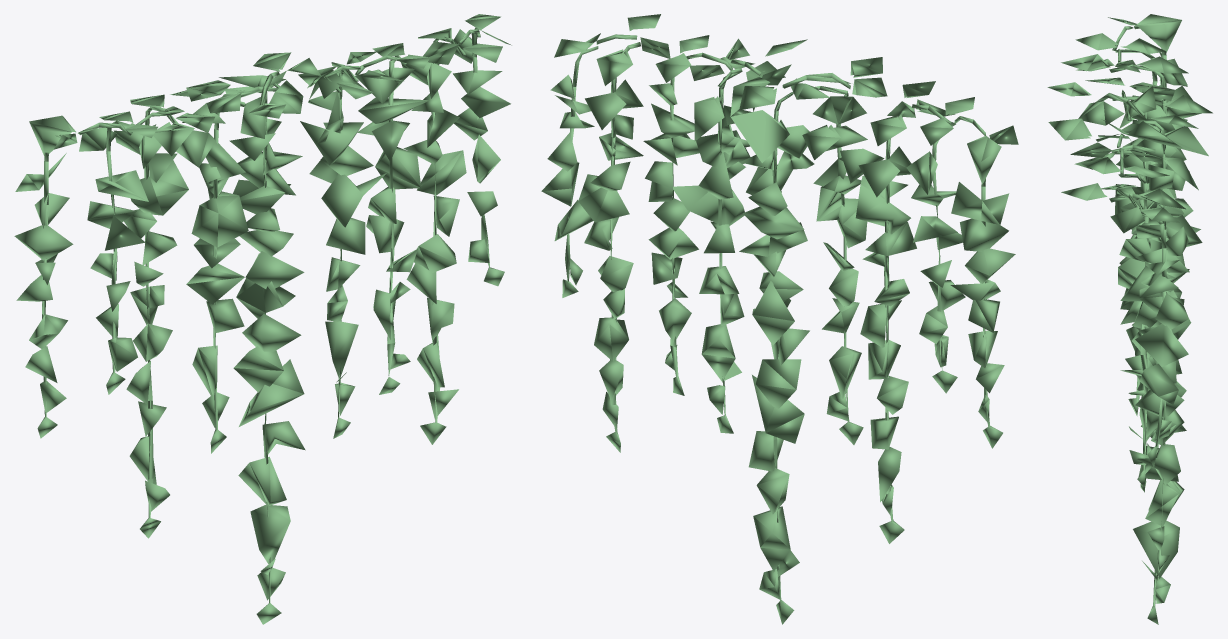
Rendered from ivy.glb.
The picture shows the model from 3 angles, left to right: view 1: azimuth 30°, elevation 25°; view 2: azimuth 150°, elevation 25°; view 3: azimuth 270°, elevation 25°; orthographic projection. The views are drawn at different scales.
Parts seen in each view (by area): view 1: tripo_node_ea5494db-90c6-4adf-a9d5-9ce194103fb0; view 2: tripo_node_ea5494db-90c6-4adf-a9d5-9ce194103fb0; view 3: tripo_node_ea5494db-90c6-4adf-a9d5-9ce194103fb0.
Part boxes in pixels (box(x1,y1,x2,y2)): tripo_node_ea5494db-90c6-4adf-a9d5-9ce194103fb0: box(14, 14, 511, 624); tripo_node_ea5494db-90c6-4adf-a9d5-9ce194103fb0: box(541, 14, 1018, 624); tripo_node_ea5494db-90c6-4adf-a9d5-9ce194103fb0: box(1047, 14, 1212, 624).
Bounding box in the file's own units: 0.8809 × 0.998 × 0.2891.
